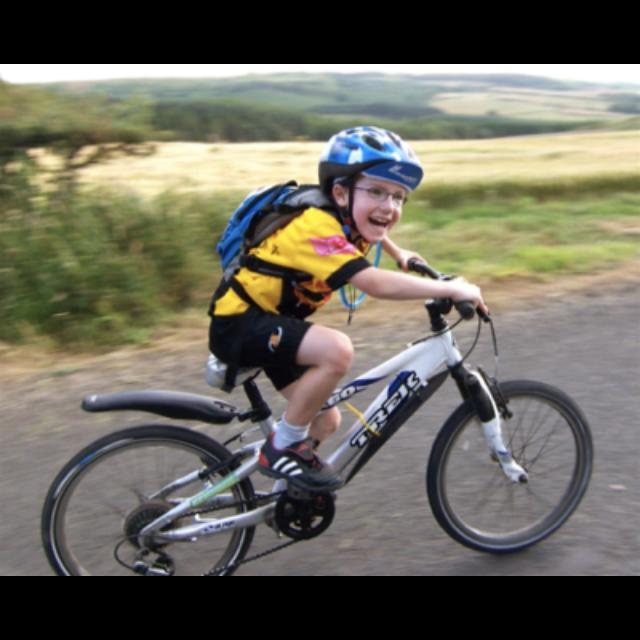With Helmet: (317, 112, 431, 244)
